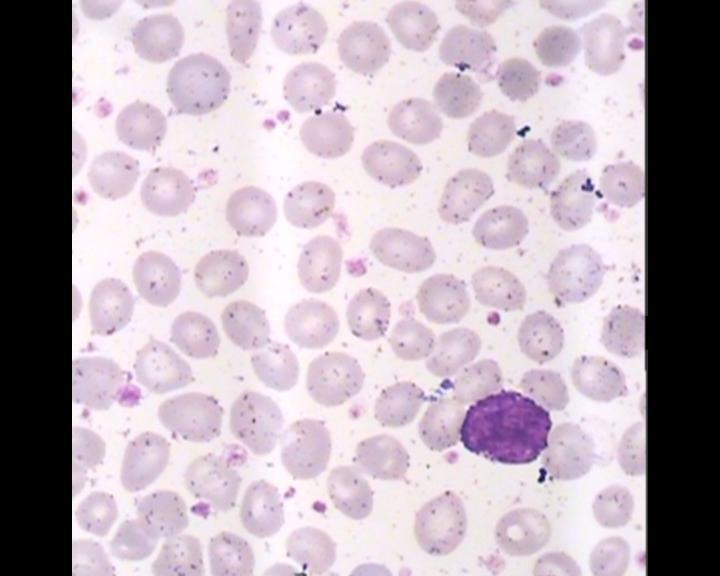baso: (455, 389, 557, 470)
